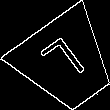L_SE: (38, 33, 94, 93)
